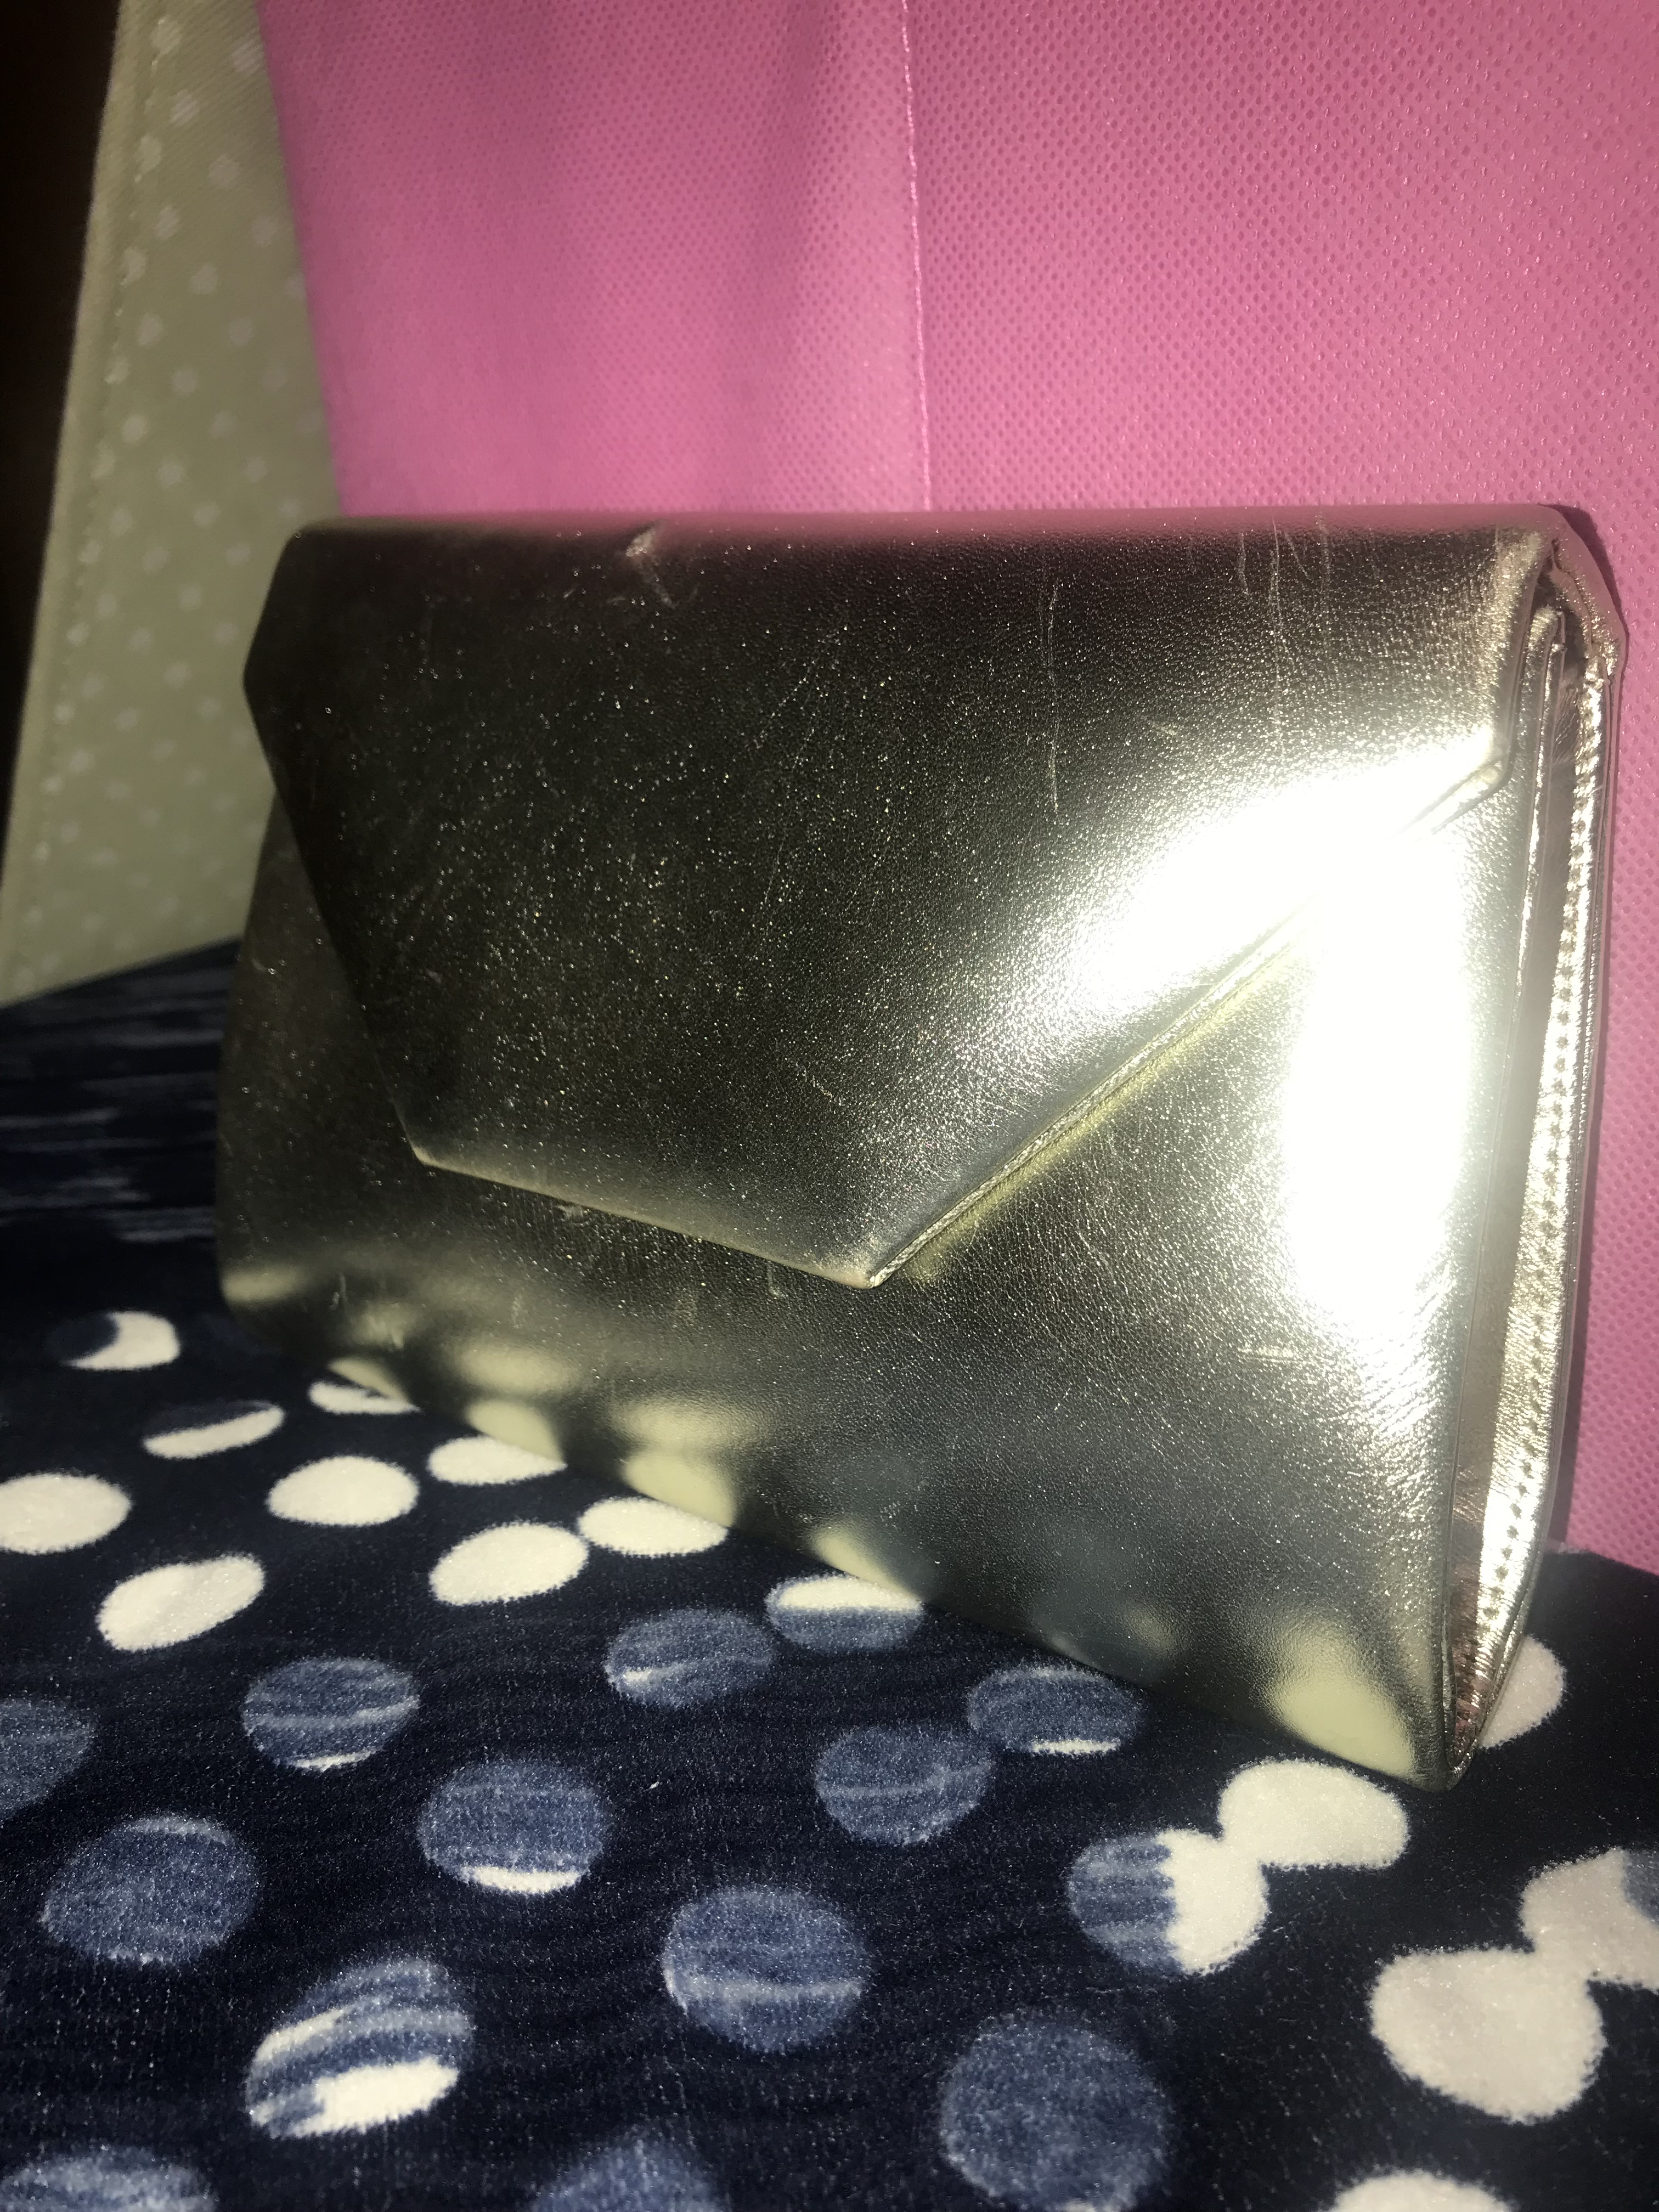cartera: (186, 512, 1596, 1799)
cuero: (817, 596, 1077, 859)
